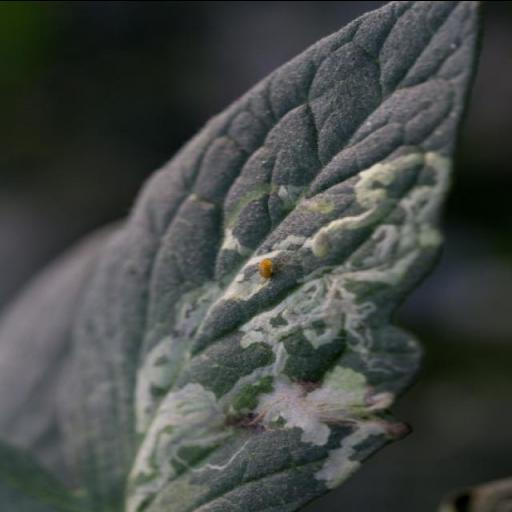Leaf Miner: (58, 0, 480, 512)
